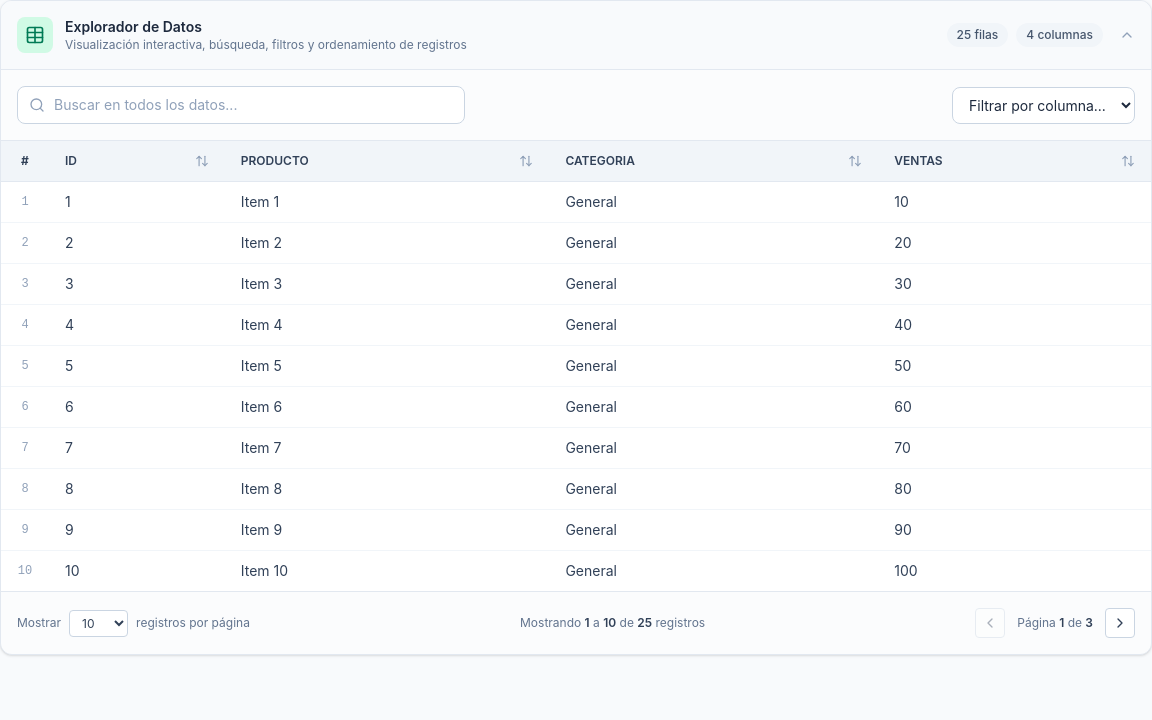
Test: Componente DataExplorer › debe manejar la paginación correctamente navegando entre páginas
This screenshot has width=1152, height=720.
Expected: the text "Item 1" is shown, [225,182,549,222]
Expected: the text "Item 10" is shown, [225,550,549,591]
Click the 2nd button: (1120, 623) [1105,608,1135,638]
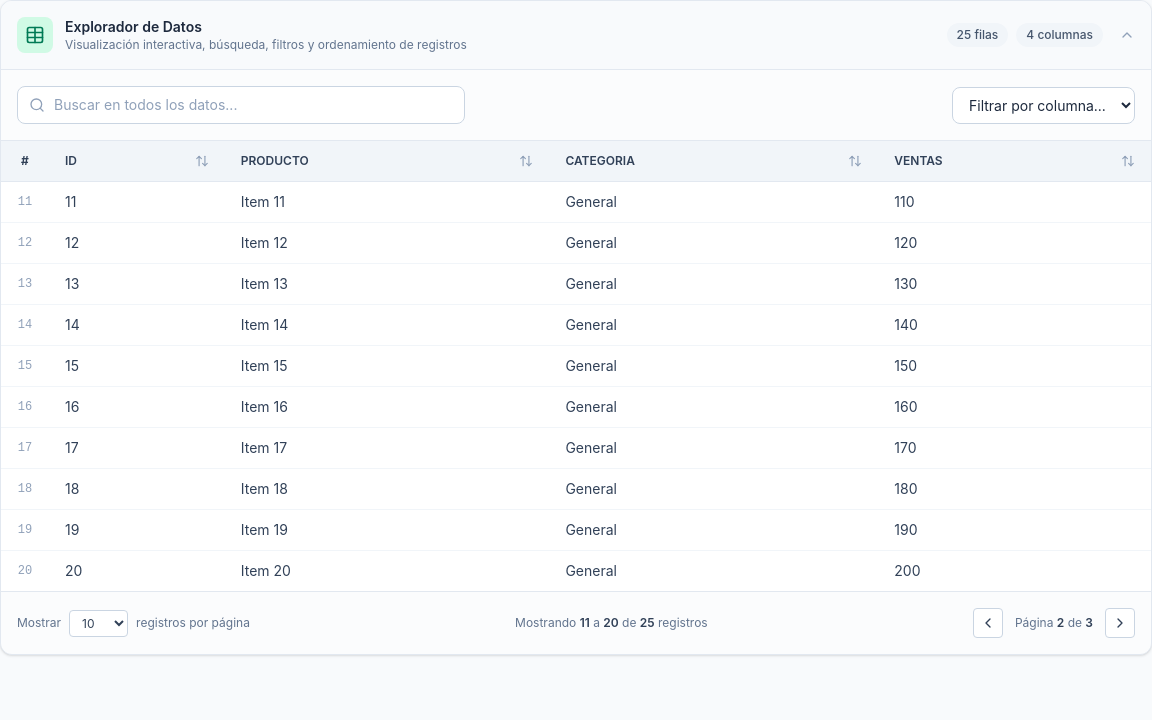
Now the text "Item 11" is shown, box [225,182,549,222]
Now the element showing "Página 2 de 3" is shown, box [973,608,1135,638]
Now the 1st button is enabled
Click the 1st button: (988, 623) [973,608,1003,638]
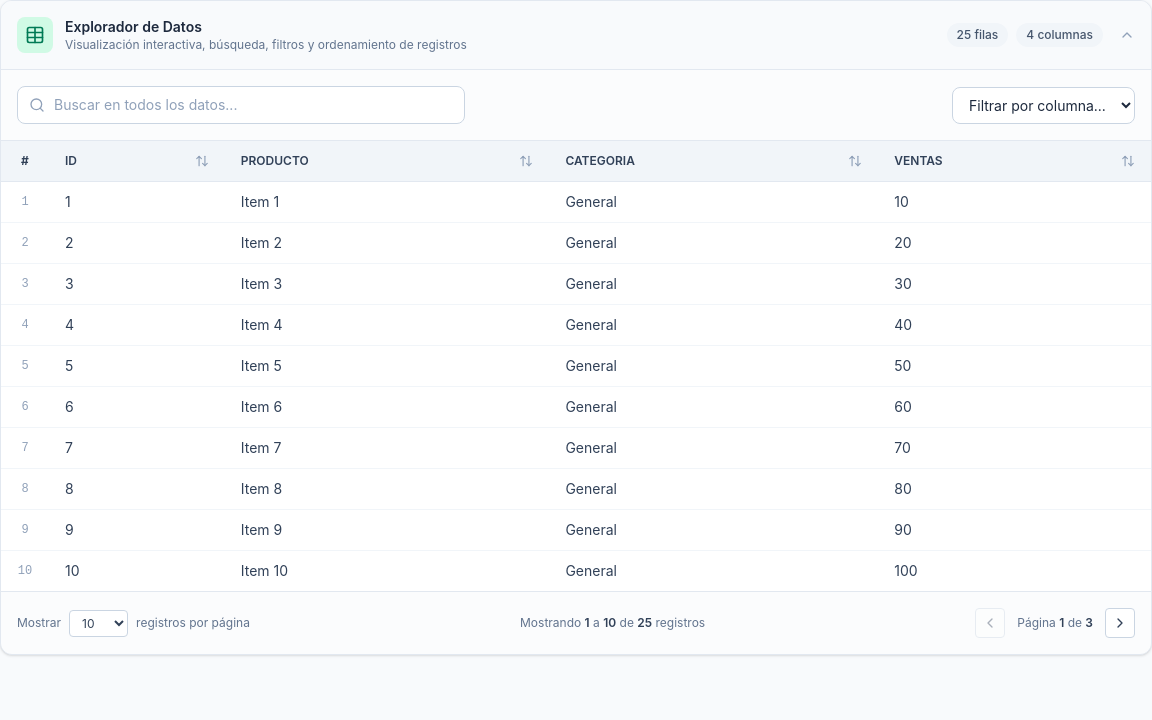
Expected: the text "Item 1" is shown, [225,182,549,222]
Now the element showing "Página 1 de 3" is shown, box [975,608,1135,638]
